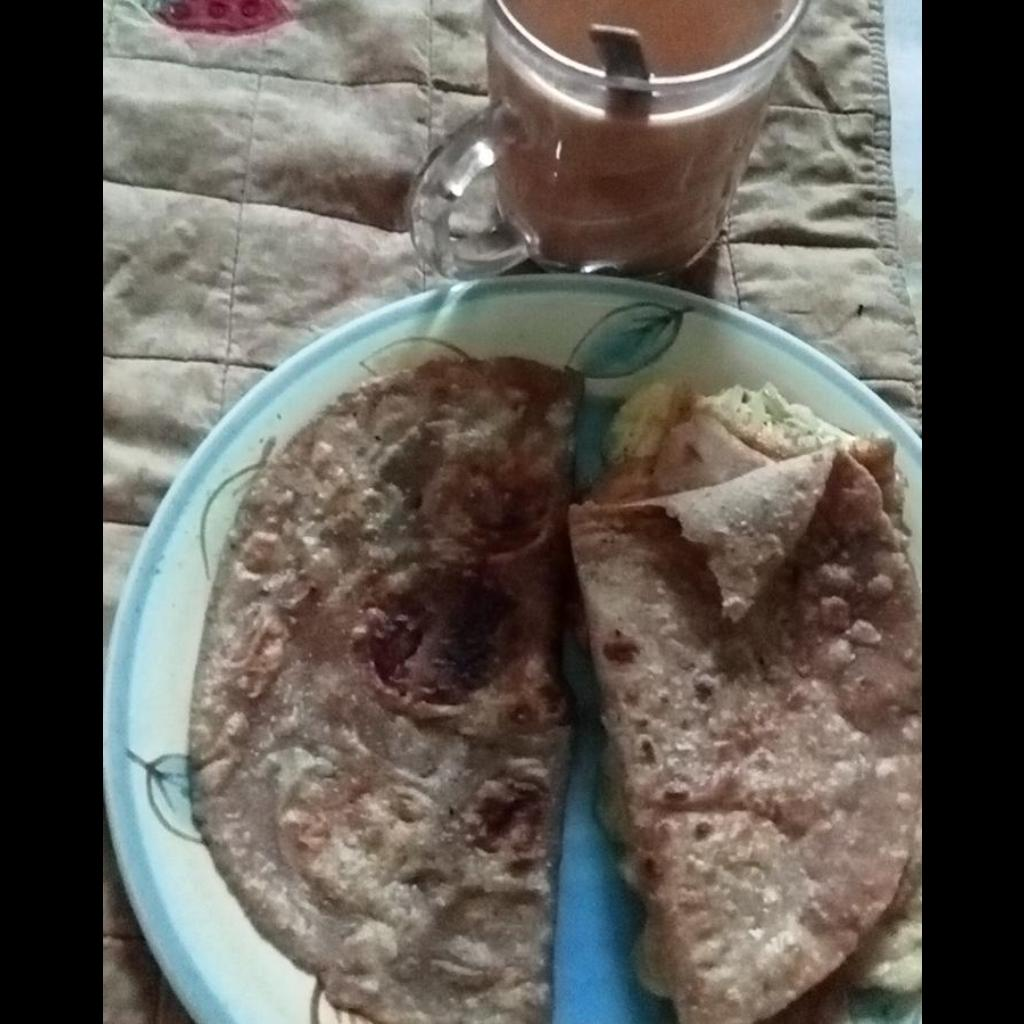cha: (504, 0, 787, 76)
ruti: (184, 356, 918, 1023)
